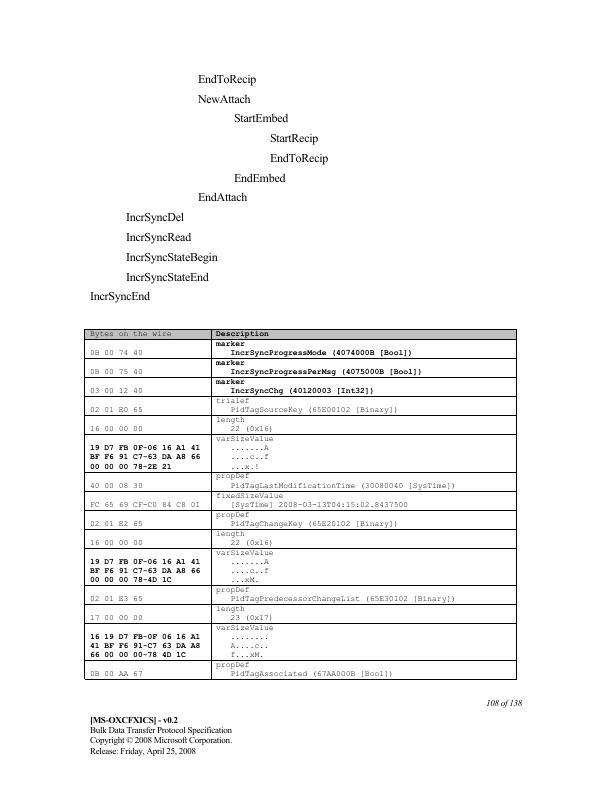table: (79, 326, 520, 685)
text: (87, 69, 330, 304), (87, 713, 234, 757), (483, 692, 525, 712)
